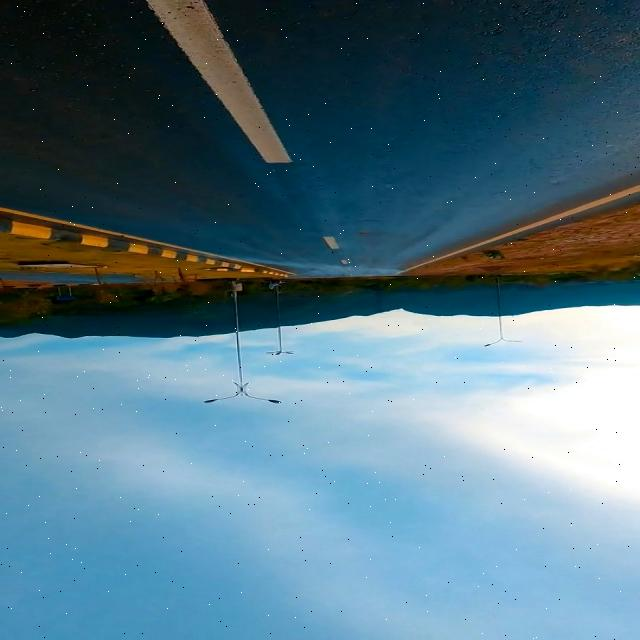lane: (147, 1, 292, 163), (402, 185, 640, 273)
road: (4, 1, 638, 277), (147, 1, 292, 163)
